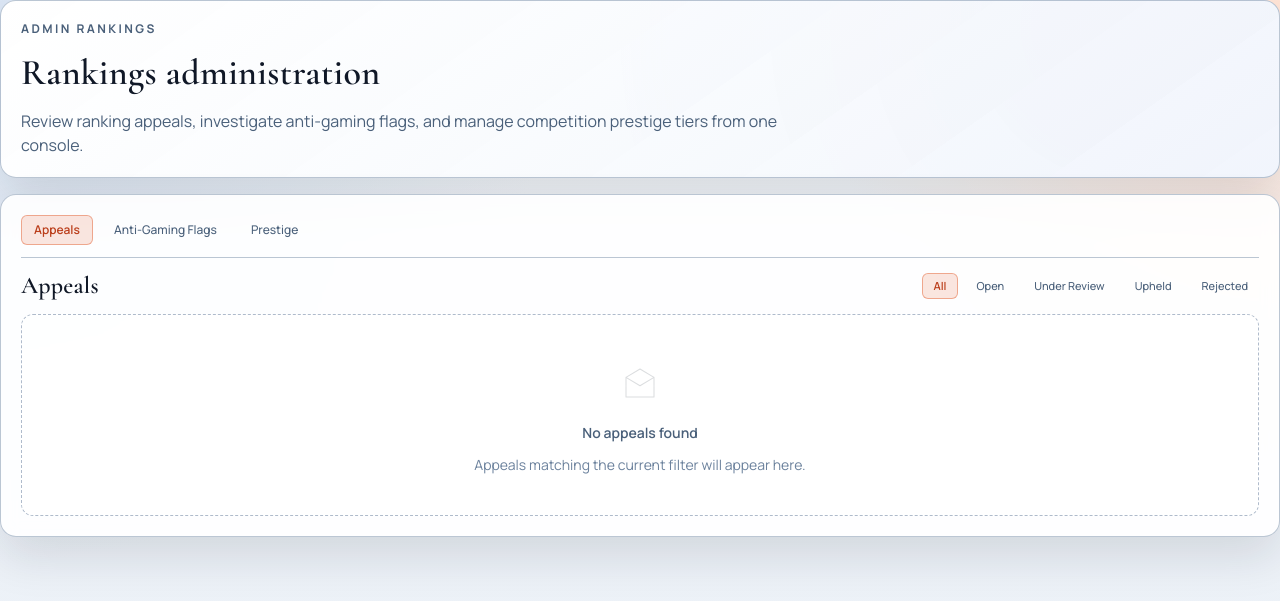
Test: AdminRankingsPage › switches to flags tab and shows empty state
Expected: the heading "Rankings administration" is shown, [21, 51, 380, 94]
Click the button "Anti-Gaming Flags" at (165, 230), box [101, 215, 230, 245]
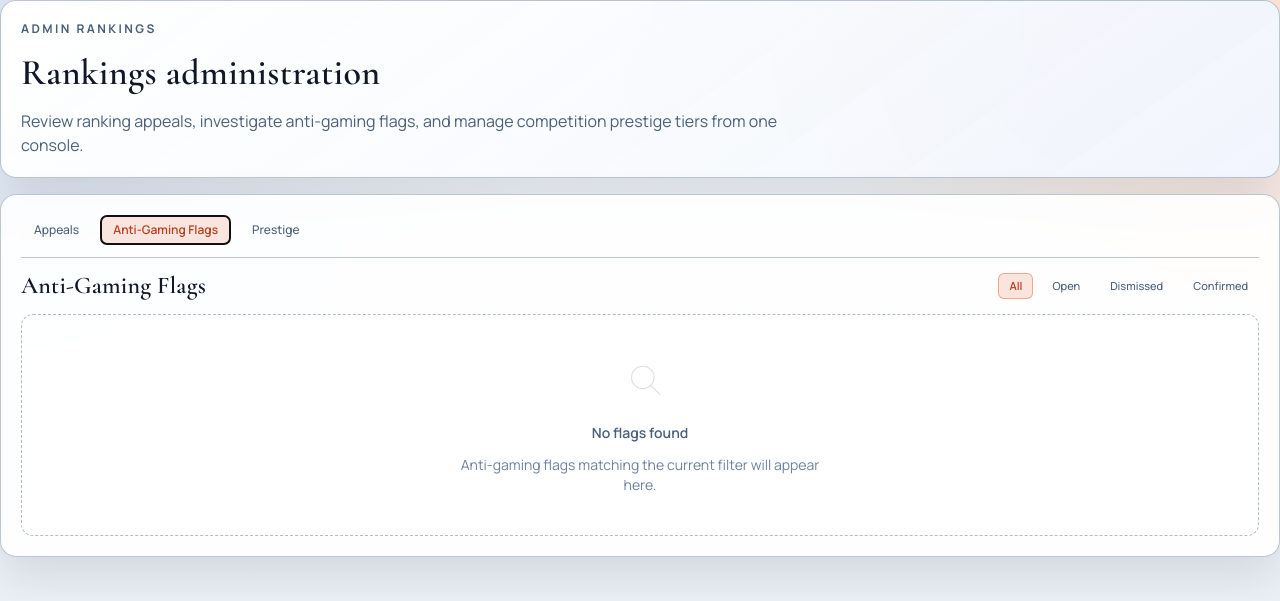
Now the text "No flags found" is shown, box [592, 423, 688, 443]
